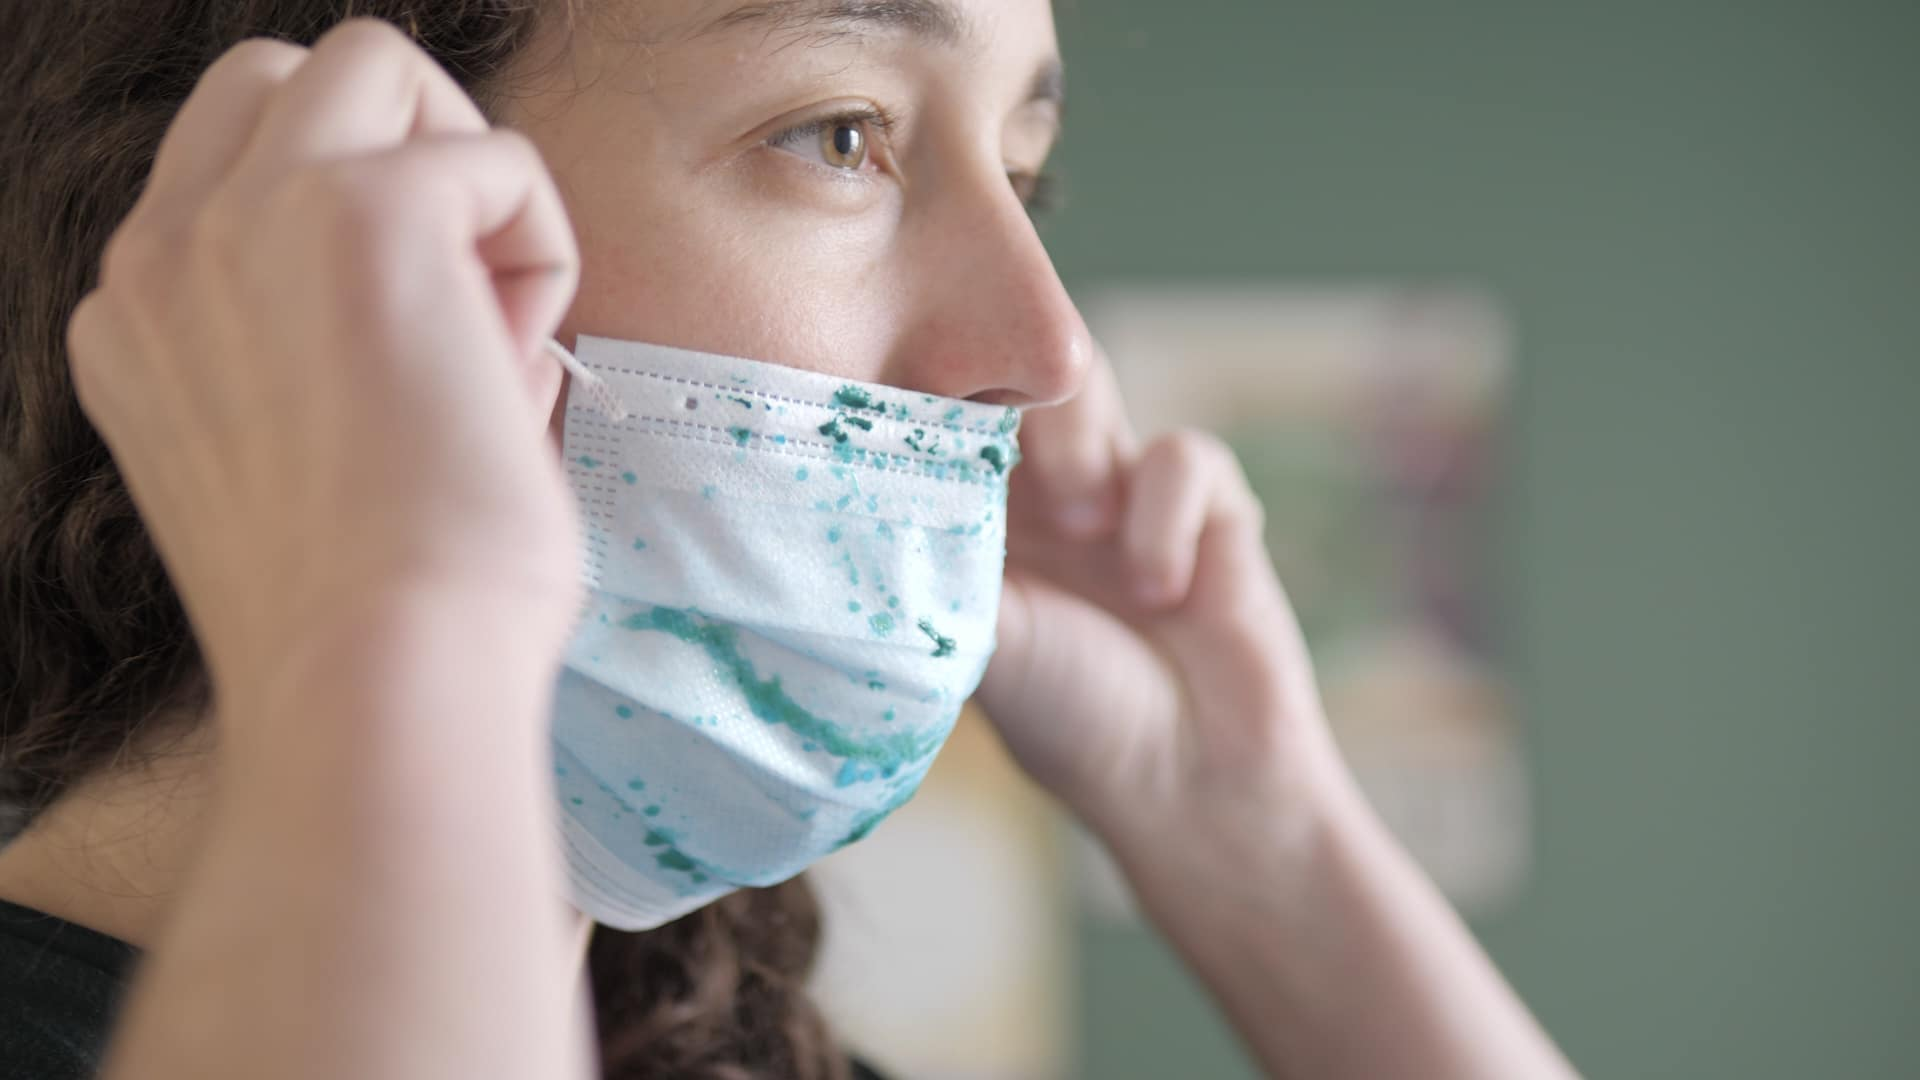with_incorrect_mask: (615, 1, 1089, 687)
